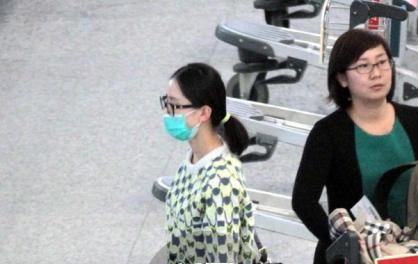face: (347, 45, 392, 101), (159, 80, 198, 142)
